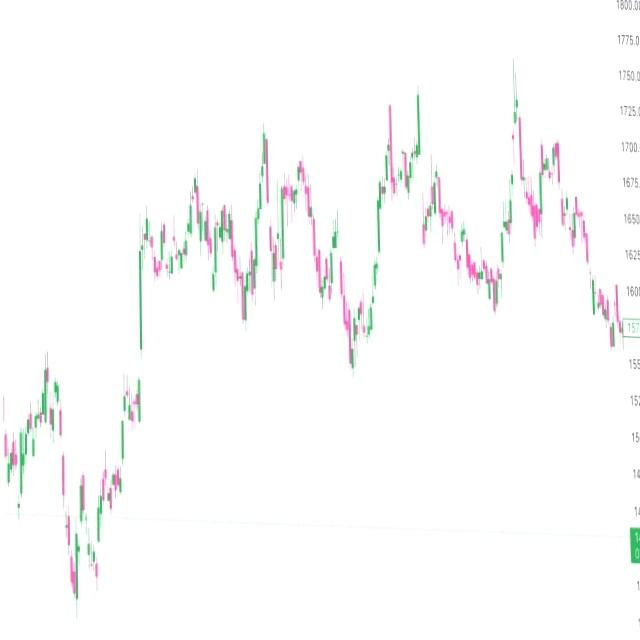Gap Down: (416, 94, 428, 244), (60, 454, 72, 550), (584, 232, 598, 314), (265, 138, 275, 252), (64, 513, 74, 586), (57, 408, 66, 489), (557, 144, 564, 226)
Gap Up: (506, 74, 516, 221), (136, 249, 144, 423), (373, 202, 382, 275), (119, 382, 126, 462), (120, 422, 125, 496)
